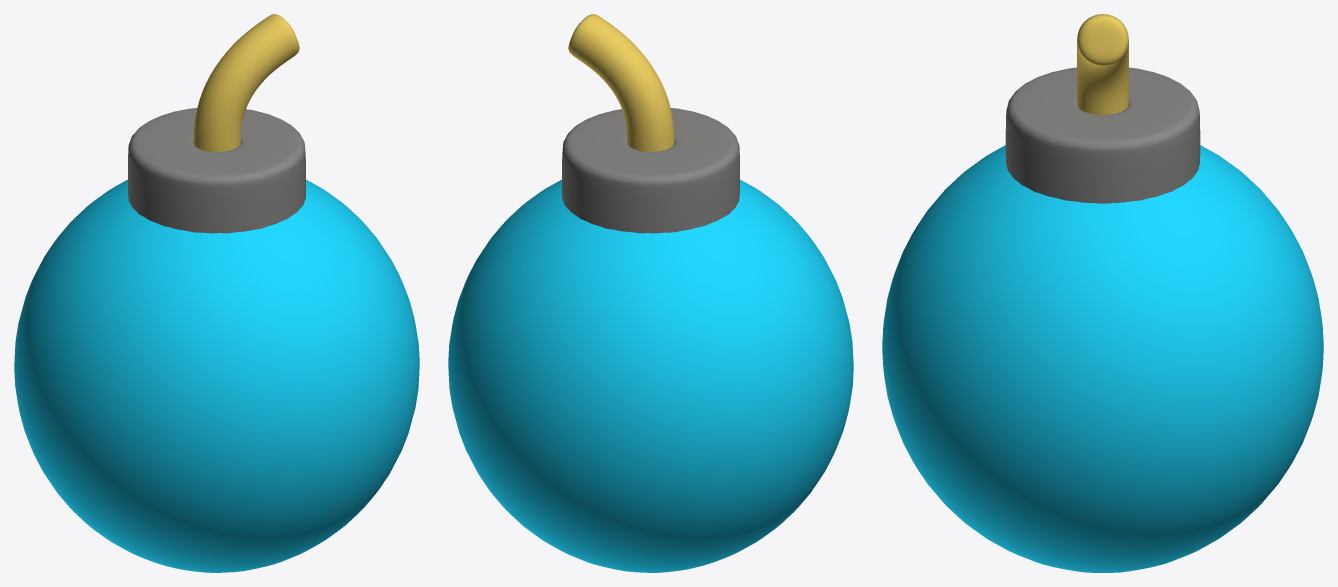
The model's file is Booooooom.fbx.
3 renders of one model, left to right at view 1: azimuth 30°, elevation 25°; view 2: azimuth 150°, elevation 25°; view 3: azimuth 270°, elevation 25°, orthographic. The views are drawn at different scales.
Visible parts, largest first — view 1: bomb_2; view 2: bomb_2; view 3: bomb_2.
Boxes of the visible parts, <box> form: bomb_2: <box>14,14,419,572</box>; bomb_2: <box>448,14,853,572</box>; bomb_2: <box>882,14,1323,572</box>.
Bounding box in the file's own units: 8016 × 11439 × 8016.
